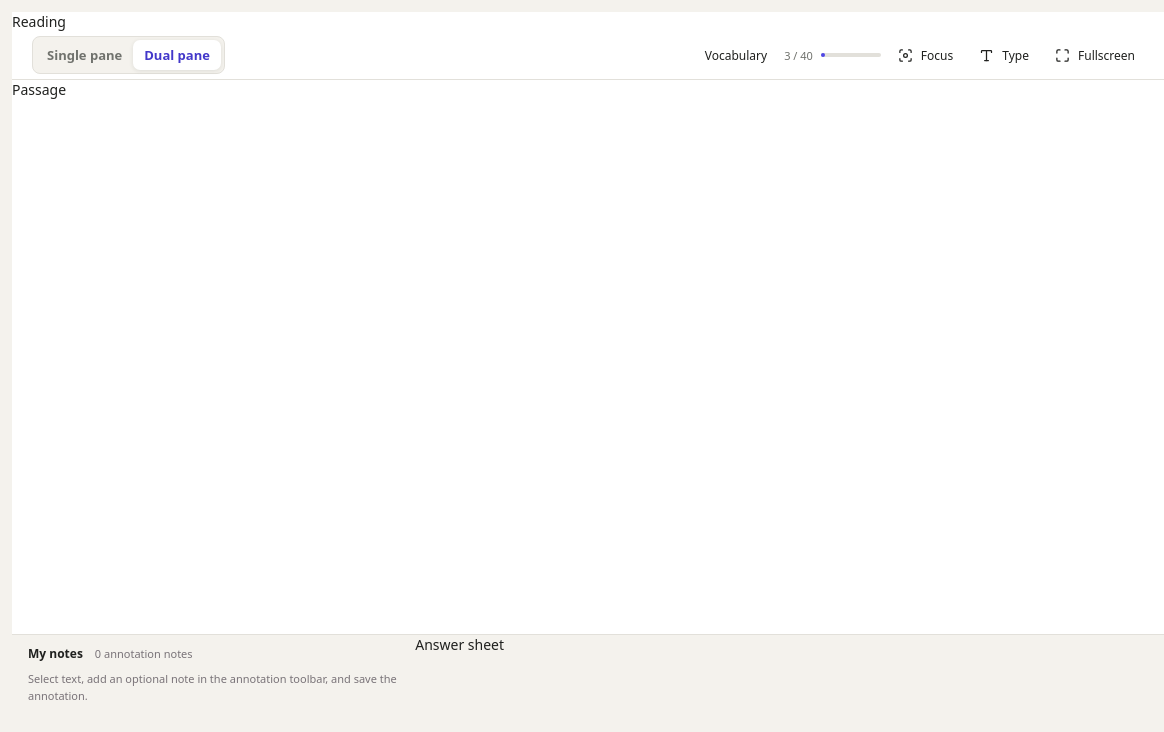
Test: Reading presentation notes › shows native fullscreen errors instead of implying that the action succeeded
Click the button "Fullscreen". click: (1095, 55)
box: top-left (1046, 40), bottom-right (1144, 70)
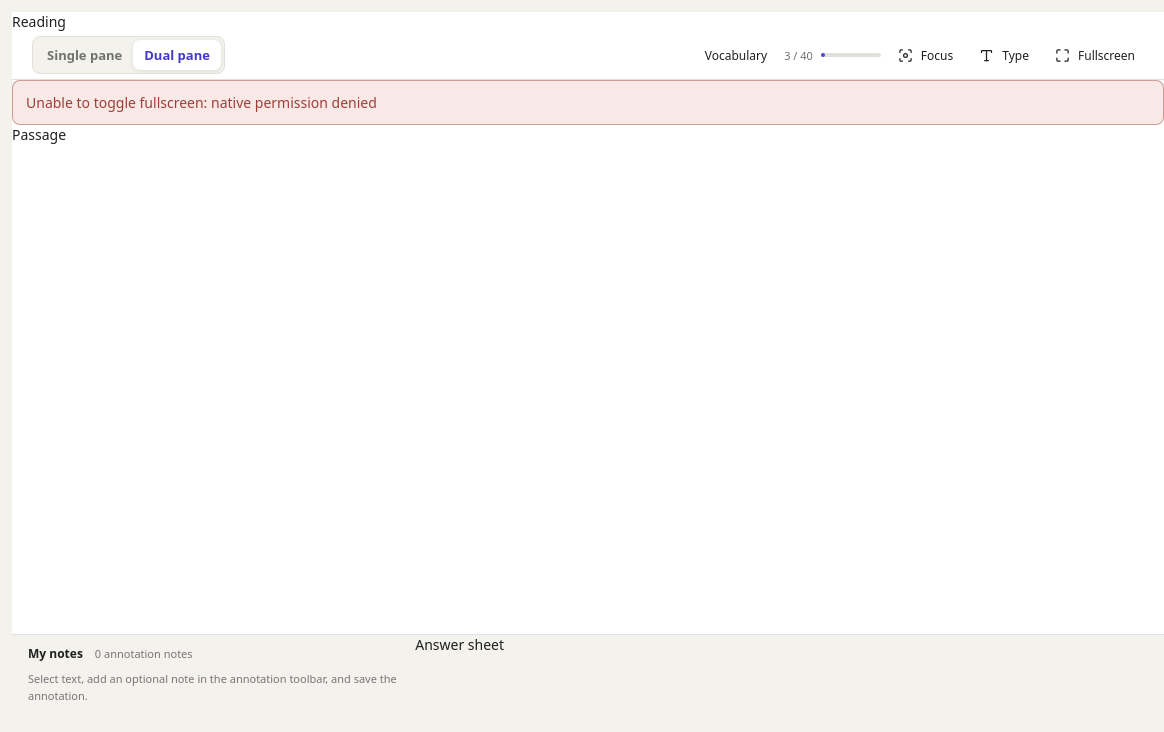
Expected: the message reads "Unable to toggle fullscreen: native permission denied", top-left (26, 93), bottom-right (377, 112)
Click the button "Fullscreen". click: (1095, 55)
box: top-left (1046, 40), bottom-right (1144, 70)
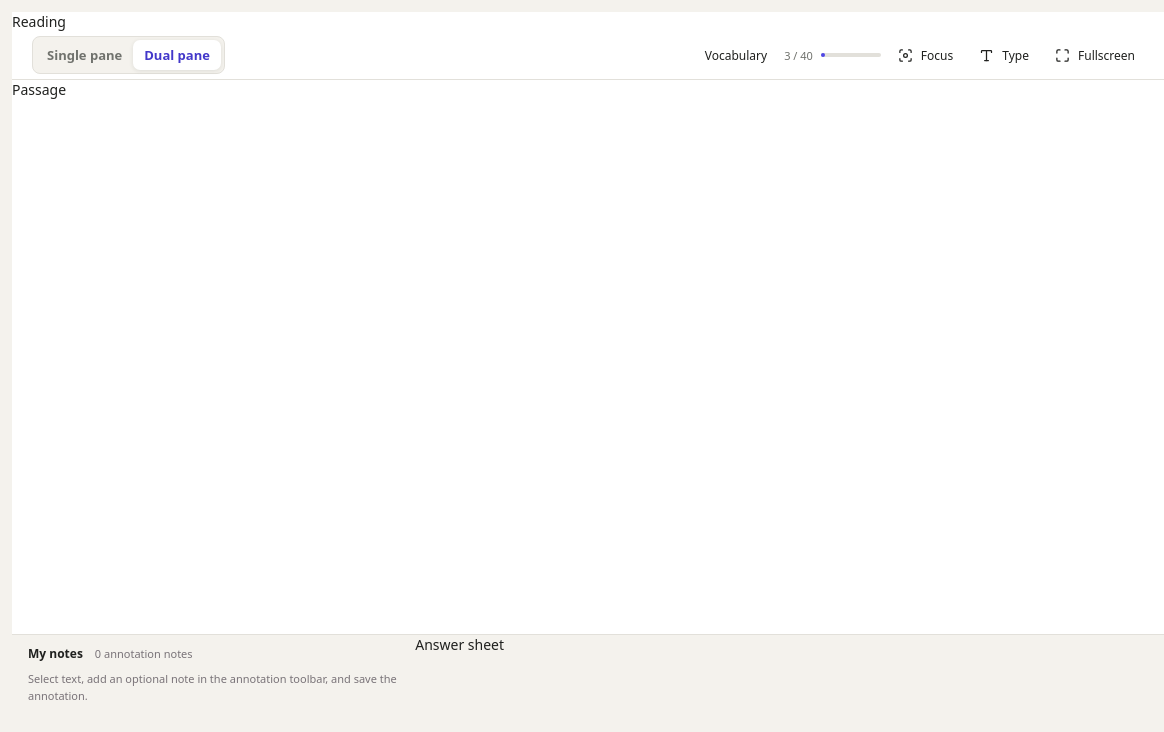
Expected: the message "Unable to toggle fullscreen: native permission denied" is gone
